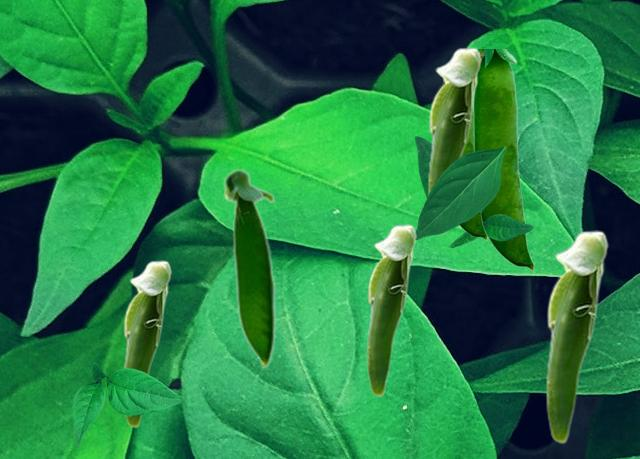pea: (545, 230, 608, 443), (475, 49, 533, 271), (222, 167, 275, 371), (427, 47, 481, 233), (366, 224, 416, 396), (122, 260, 171, 427), (442, 82, 486, 240)
